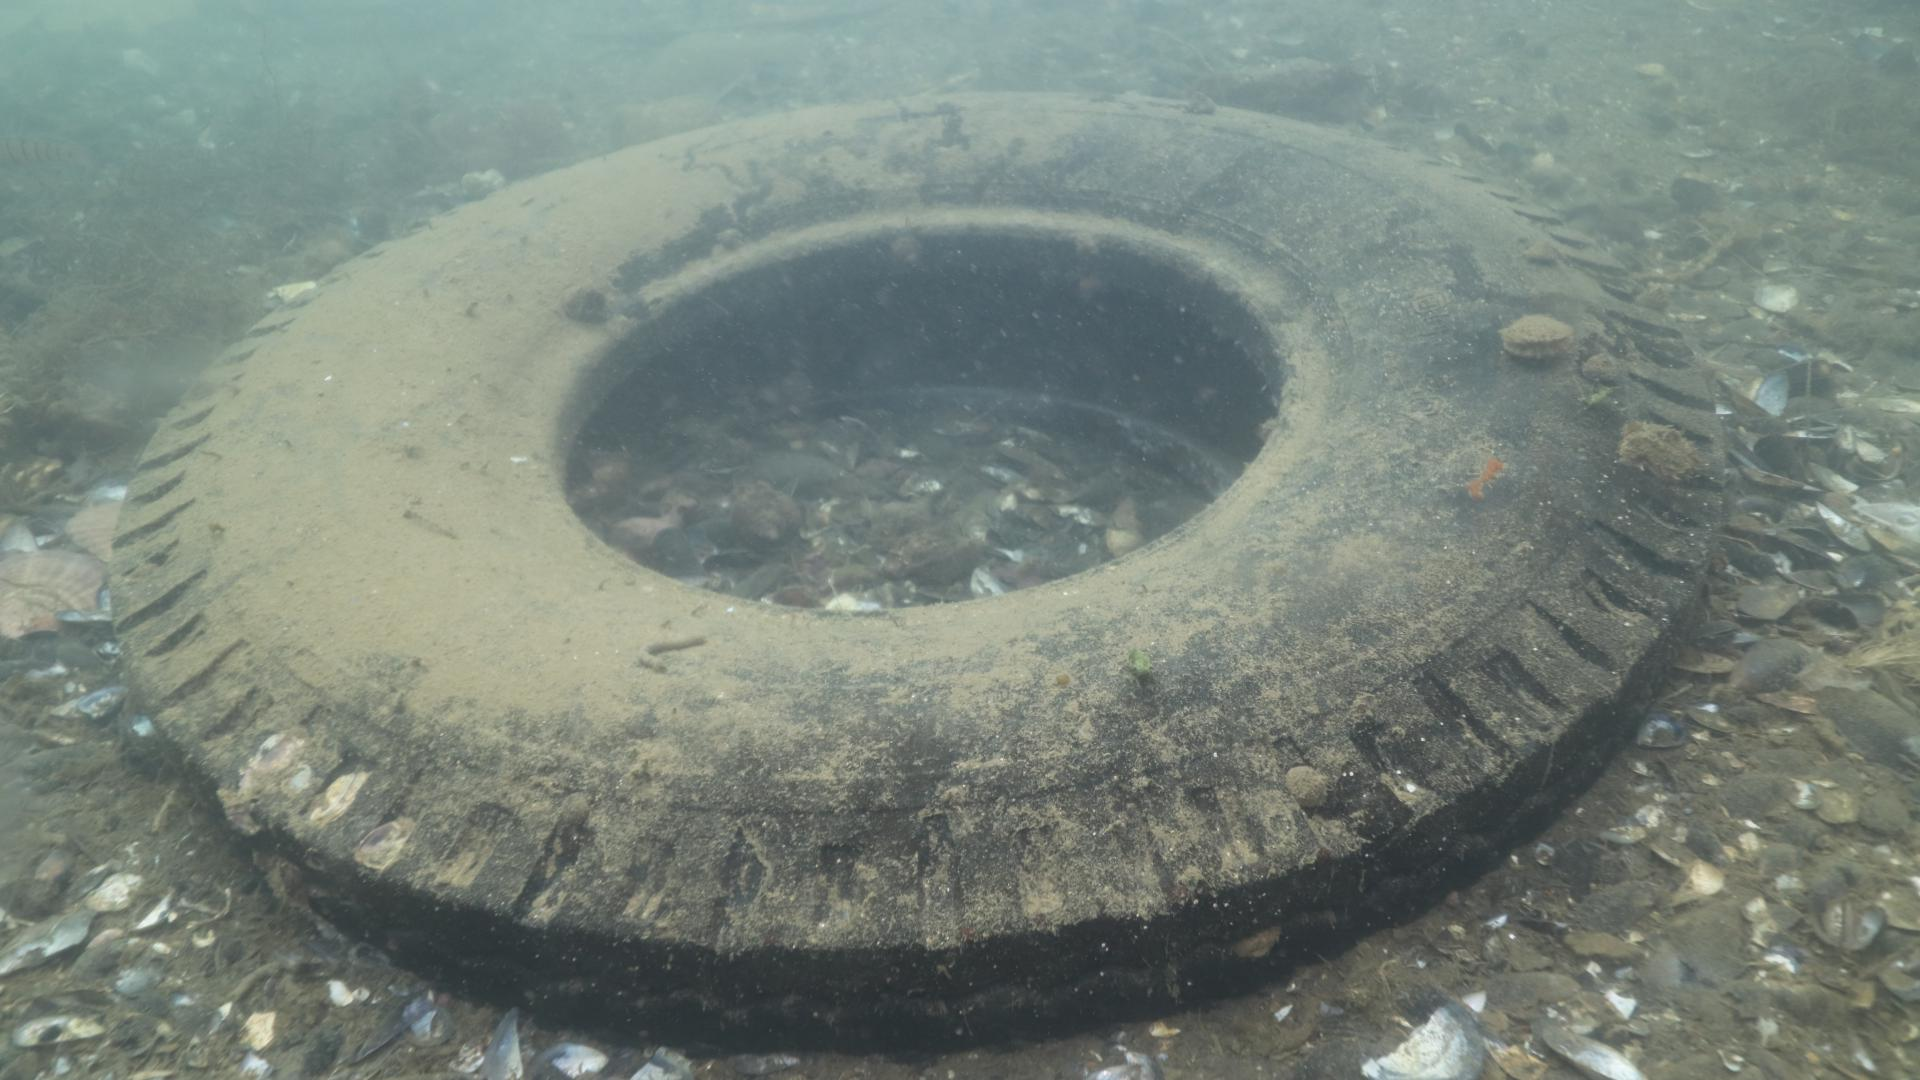tire: (105, 94, 1730, 1058)
